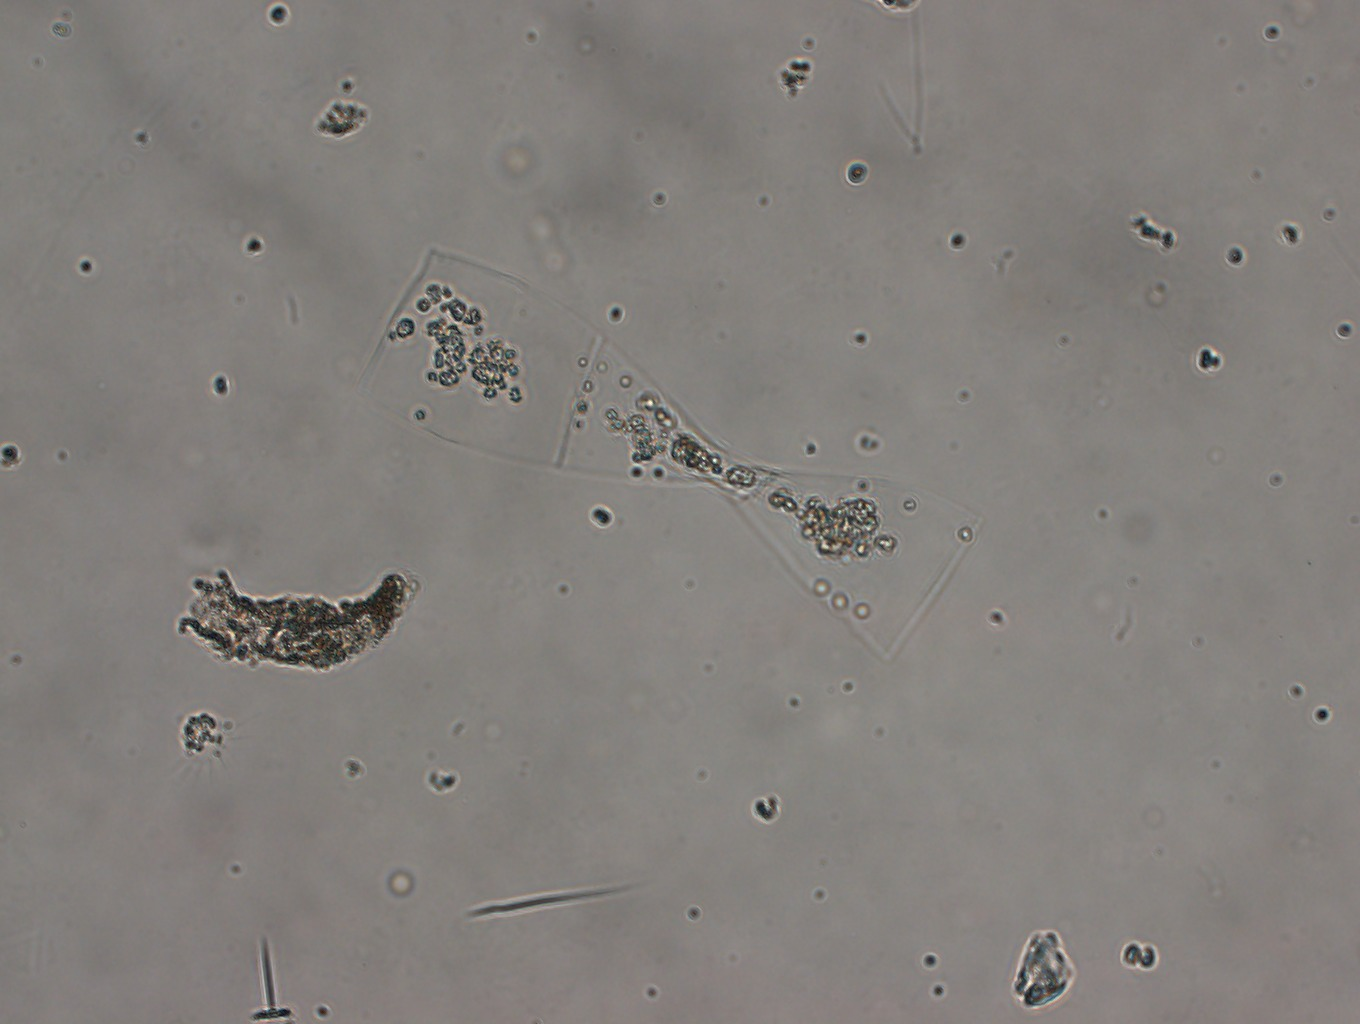helicotheca: (354, 247, 985, 663)
